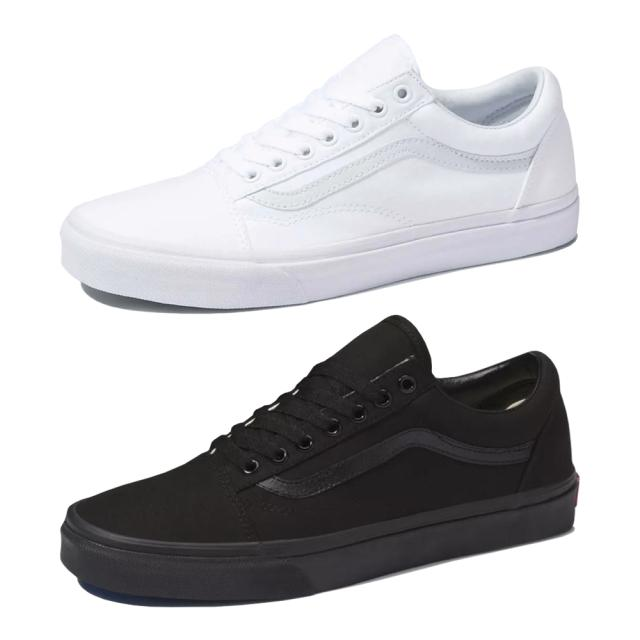shoe: (50, 315, 587, 614), (62, 34, 580, 314)
